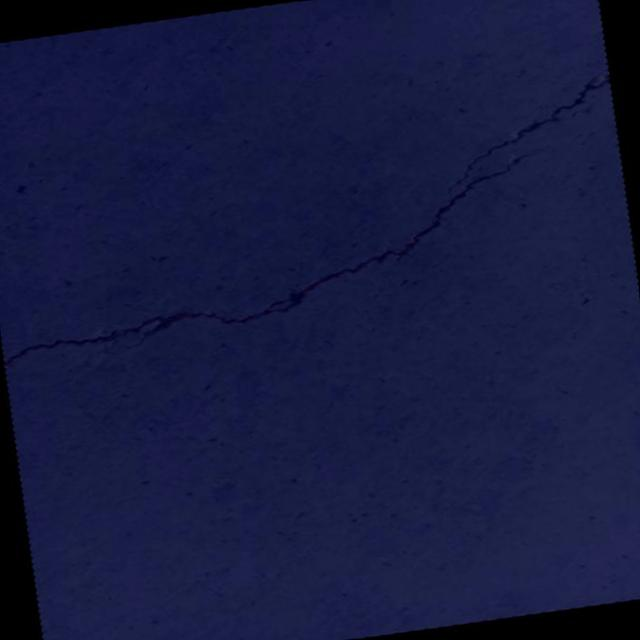crack: (0, 123, 579, 366), (414, 72, 624, 202), (464, 133, 502, 158), (0, 332, 23, 347)
